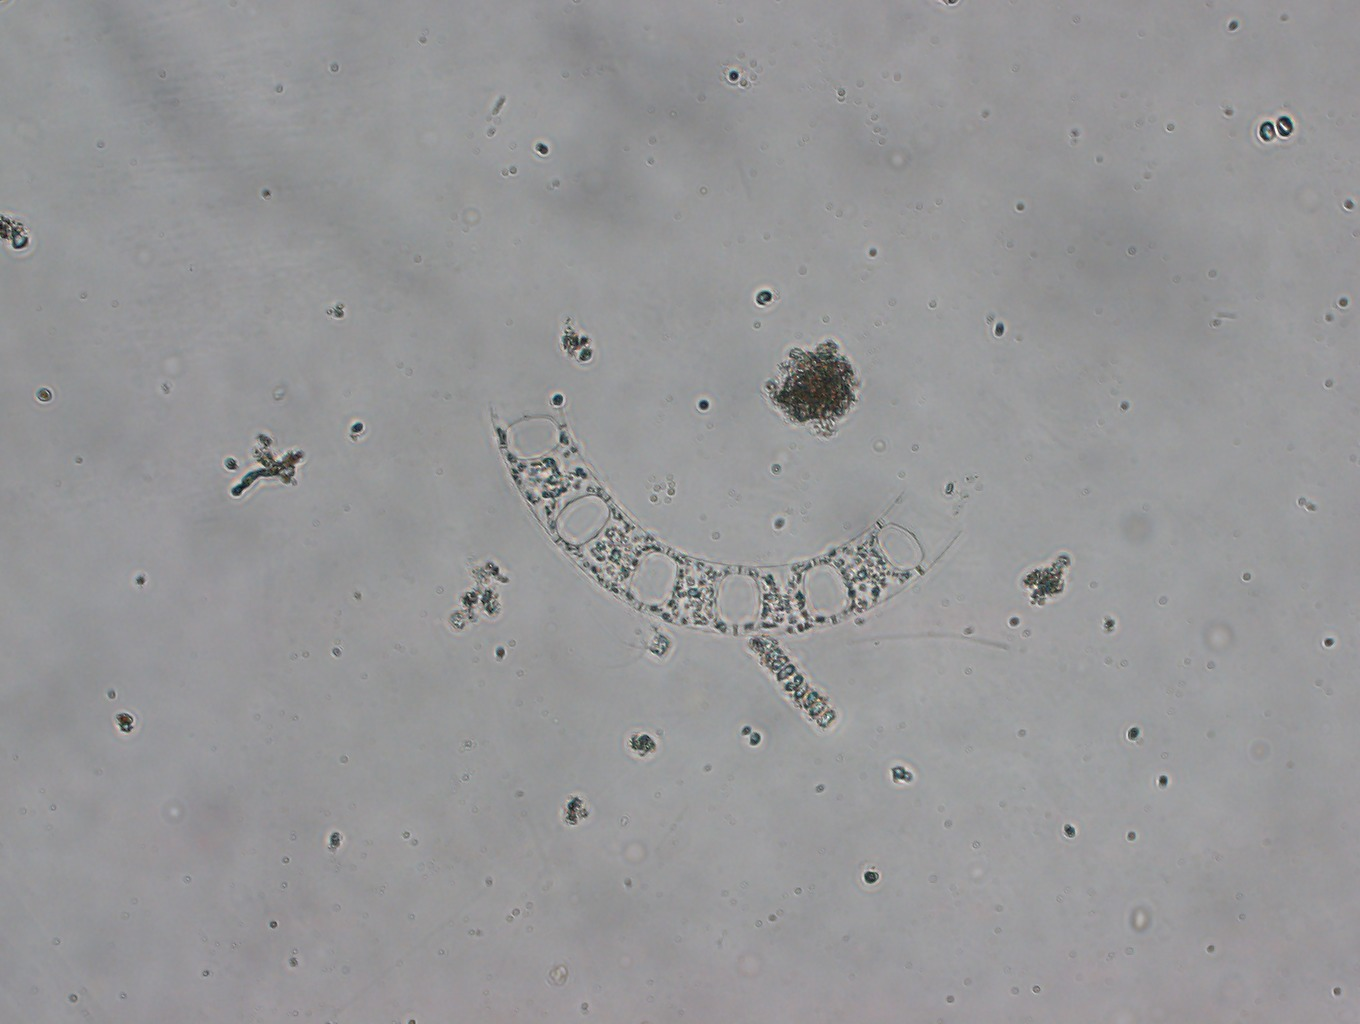eucampia: (472, 384, 978, 641)
skeletonema: (740, 627, 841, 735)
